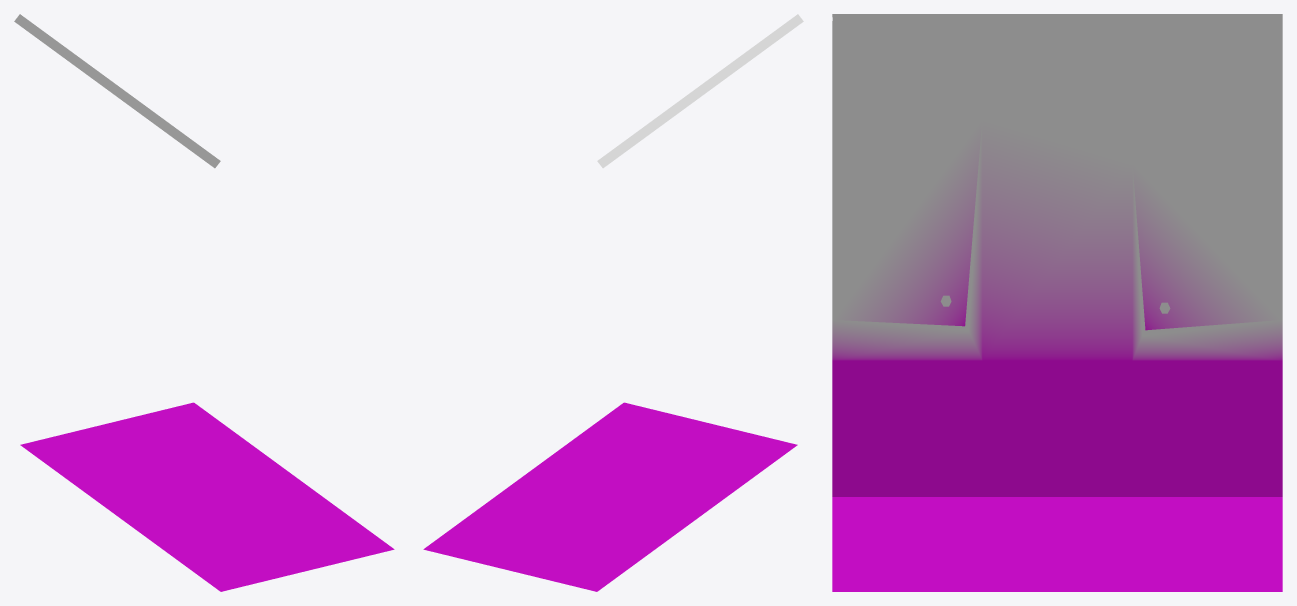
Rendered from Lane-factory_gap_R.glb.
3 renders of one model, left to right at view 1: azimuth 30°, elevation 25°; view 2: azimuth 150°, elevation 25°; view 3: azimuth 270°, elevation 25°, orthographic. The views are drawn at different scales.
Parts seen in each view (by area): view 1: Lane-factory_gap_R; view 2: Lane-factory_gap_R; view 3: Lane-factory_gap_R.
Part boxes in pixels (box(x1,y1,x2,y2)): Lane-factory_gap_R: box(14, 14, 394, 591); Lane-factory_gap_R: box(423, 14, 803, 591); Lane-factory_gap_R: box(832, 14, 1282, 591).
Bounding box in the file's own units: 3.1 × 7.1 × 6.
